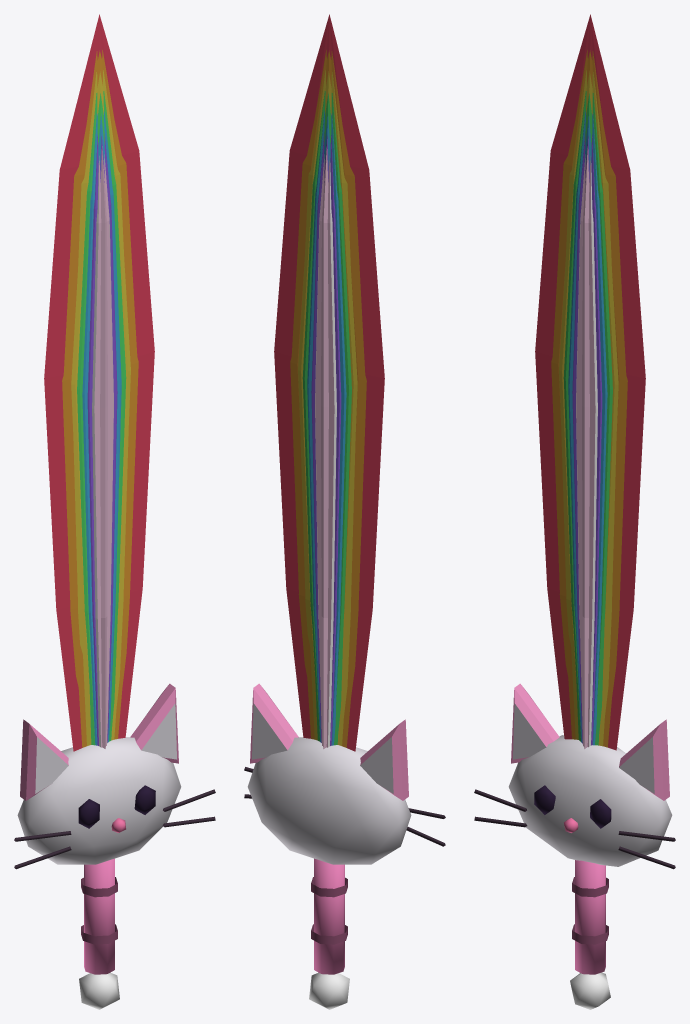
Rendered from meowmere.glb.
3 renders of one model, left to right at view 1: azimuth 30°, elevation 25°; view 2: azimuth 150°, elevation 25°; view 3: azimuth 330°, elevation 25°, orthographic.
Visible parts, largest first — view 1: meowmere_v0; view 2: meowmere_v0; view 3: meowmere_v0.
Part boxes in pixels (x1=…): meowmere_v0: x1=14, y1=14, x2=215, y2=1009; meowmere_v0: x1=244, y1=14, x2=445, y2=1009; meowmere_v0: x1=474, y1=14, x2=675, y2=1009.
Size of the model in its own units: 0.3008 by 1.43 by 0.1094.
